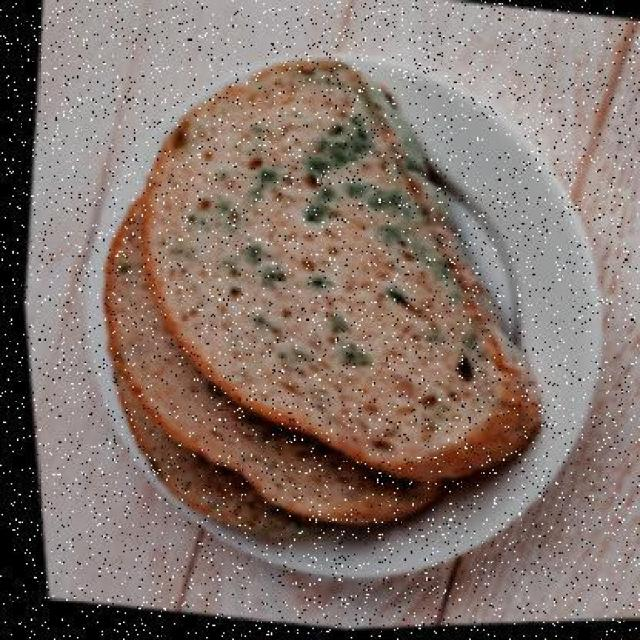mold_bread: (293, 119, 415, 221), (440, 284, 508, 359), (374, 230, 446, 268), (329, 310, 373, 371), (242, 244, 289, 289), (190, 201, 242, 240), (240, 149, 283, 195), (381, 282, 410, 306), (308, 271, 331, 293)
